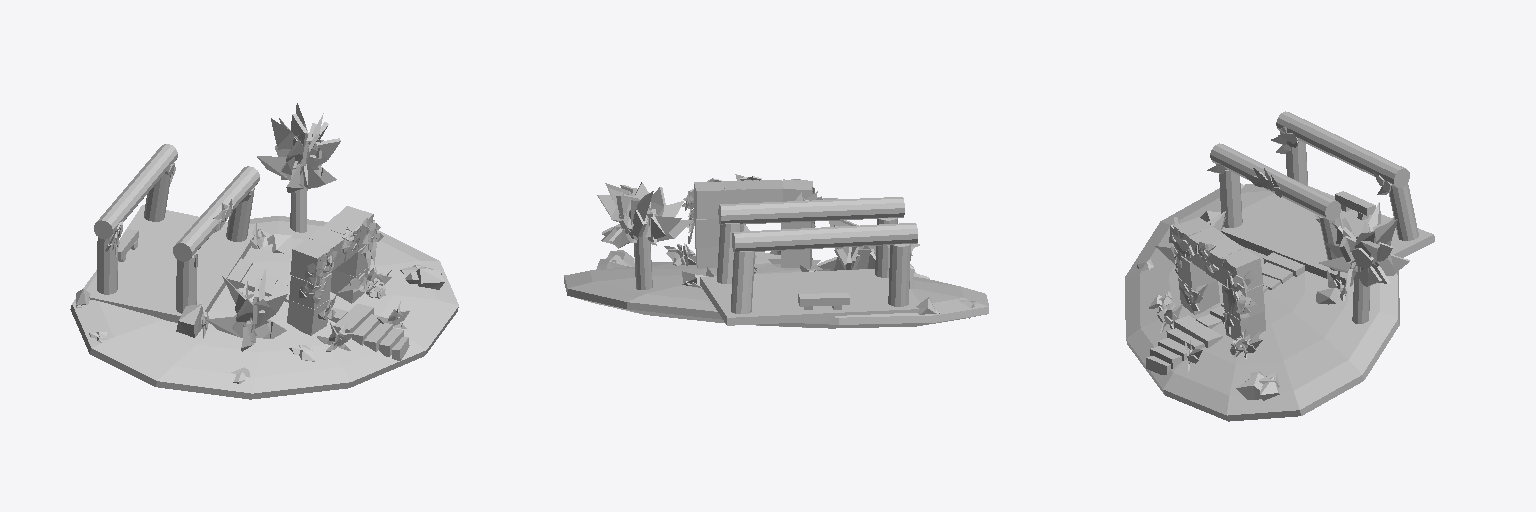
Rendered from ruins.obj.
3 renders of one model, left to right at view 1: azimuth 30°, elevation 25°; view 2: azimuth 150°, elevation 25°; view 3: azimuth 270°, elevation 25°, orthographic.
Size of the model in its own units: 1.06 by 0.4519 by 0.7323.